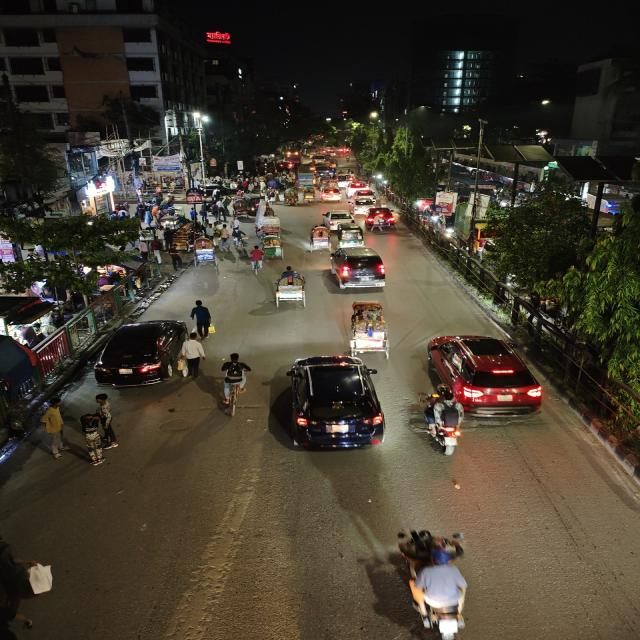car: (422, 330, 550, 424), (276, 353, 388, 455), (92, 317, 188, 390), (328, 245, 390, 292), (362, 205, 400, 231), (320, 210, 354, 228), (318, 185, 344, 203), (351, 188, 376, 204)
cng: (336, 225, 366, 247)
motorcycle: (386, 523, 494, 640), (417, 390, 468, 460)
pedestrian: (74, 404, 123, 466), (216, 352, 253, 414), (36, 398, 70, 460), (177, 333, 205, 381), (190, 298, 216, 338), (246, 245, 265, 276), (217, 234, 238, 262), (168, 246, 185, 270)
rickshaw: (344, 301, 395, 358), (269, 266, 310, 310), (191, 236, 219, 267), (307, 224, 333, 252), (260, 232, 284, 260), (299, 186, 318, 205), (230, 200, 249, 219), (281, 187, 297, 206)
truck: (298, 173, 317, 187)
